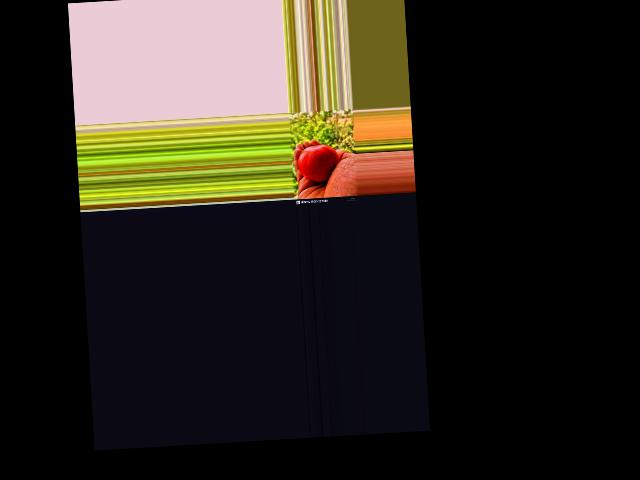tomato: (297, 144, 340, 183)
